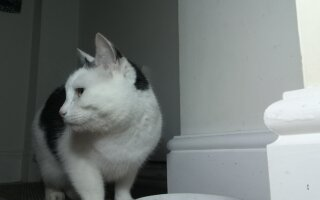bad: (30, 31, 166, 200)
